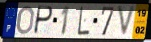1: (59, 6, 71, 36)
7: (100, 6, 115, 37)
L: (77, 6, 90, 37)
O: (15, 5, 36, 36)
P: (33, 5, 54, 36)
V: (116, 5, 138, 39)
